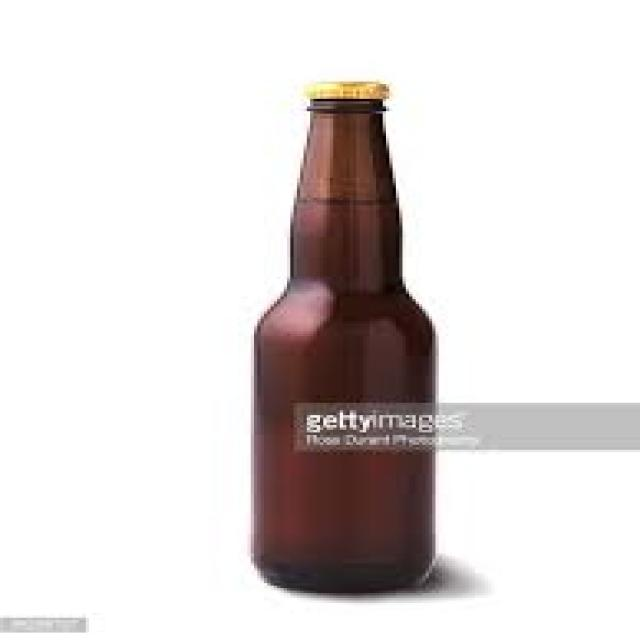glass: (247, 99, 439, 595)
metal: (310, 79, 383, 99)
